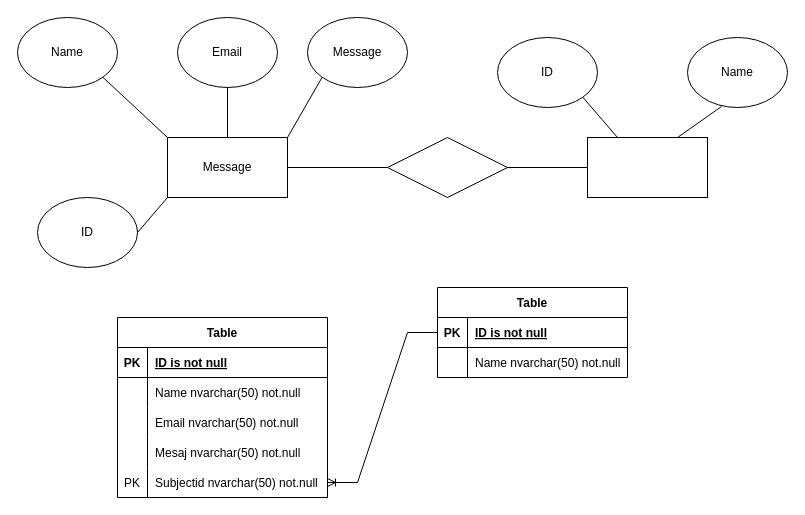
This 805x515 diagram has some shape labels left out. The shapes that lost their labels are listed below. From the top down, each one's box as (x1, y1, x2, y2) in pixels, then its label:
(386, 136, 508, 198): Relationship
(586, 136, 708, 198): Subject
